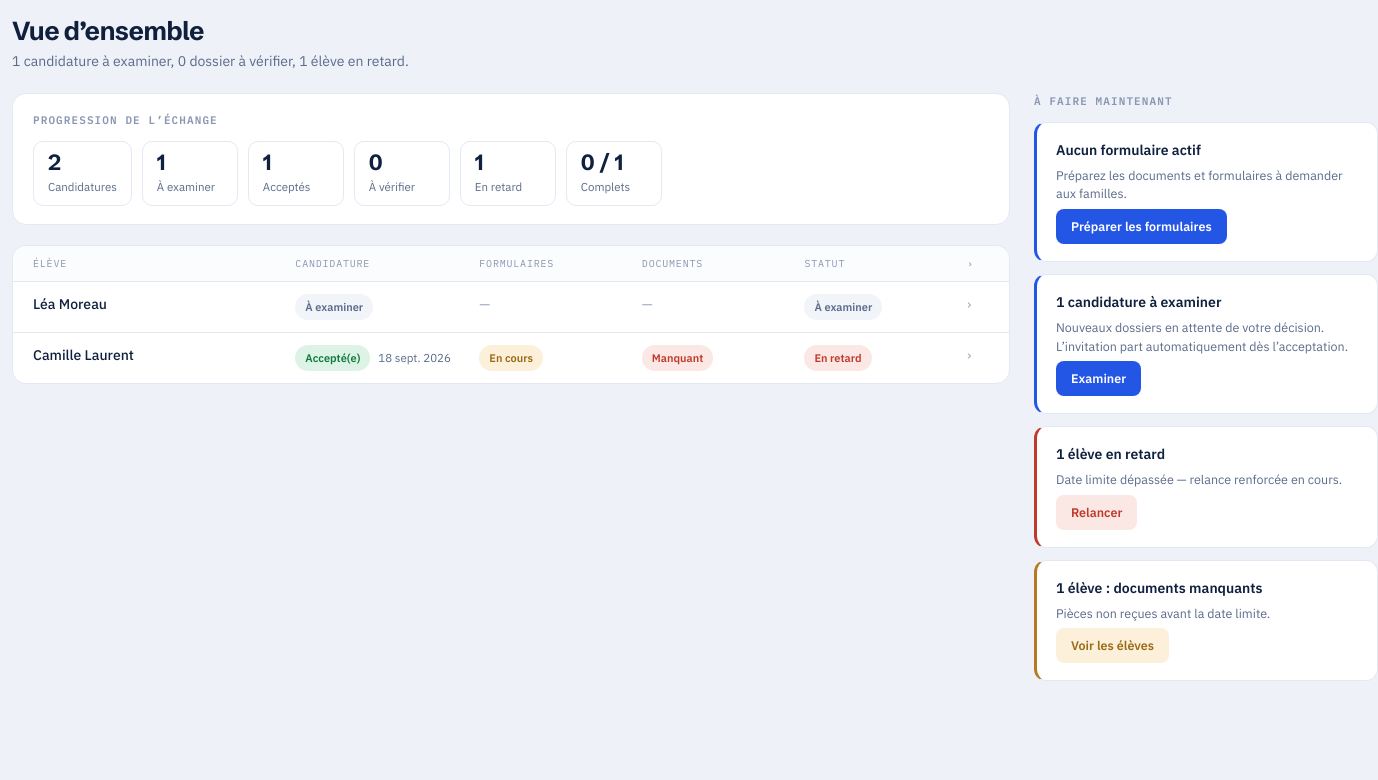
Test case: OverviewView — unified lifecycle table › filter-style action cards still filter the table
This screenshot has width=1378, height=780.
`base` is late with missing docs, so the « Relancer » card is a button.
Click the button "Relancer": (1097, 512) [1056, 495, 1137, 530]
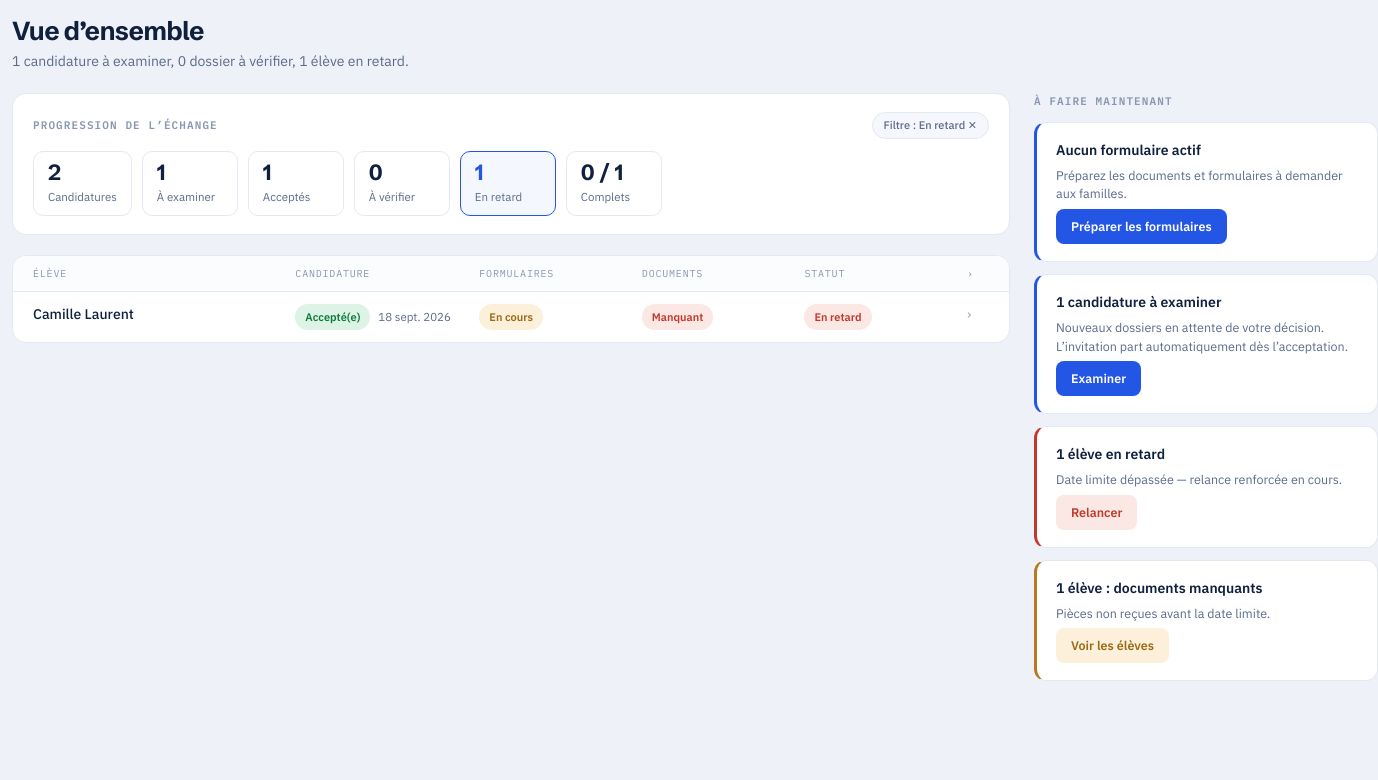
Now the button "Filtre : En retard ✕" is shown, box [872, 112, 989, 138]
